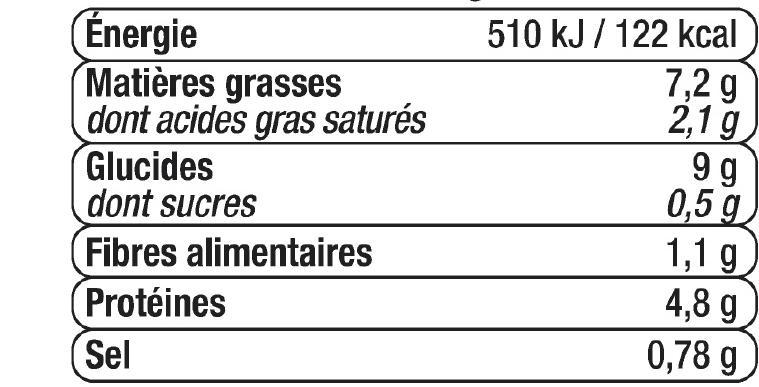column: (84, 16, 426, 372), (486, 14, 741, 372)
line: (88, 104, 737, 139), (86, 19, 734, 54), (86, 66, 738, 97), (89, 290, 739, 320), (90, 238, 736, 268), (89, 189, 734, 217), (87, 155, 738, 179)
table: (68, 6, 753, 383)
